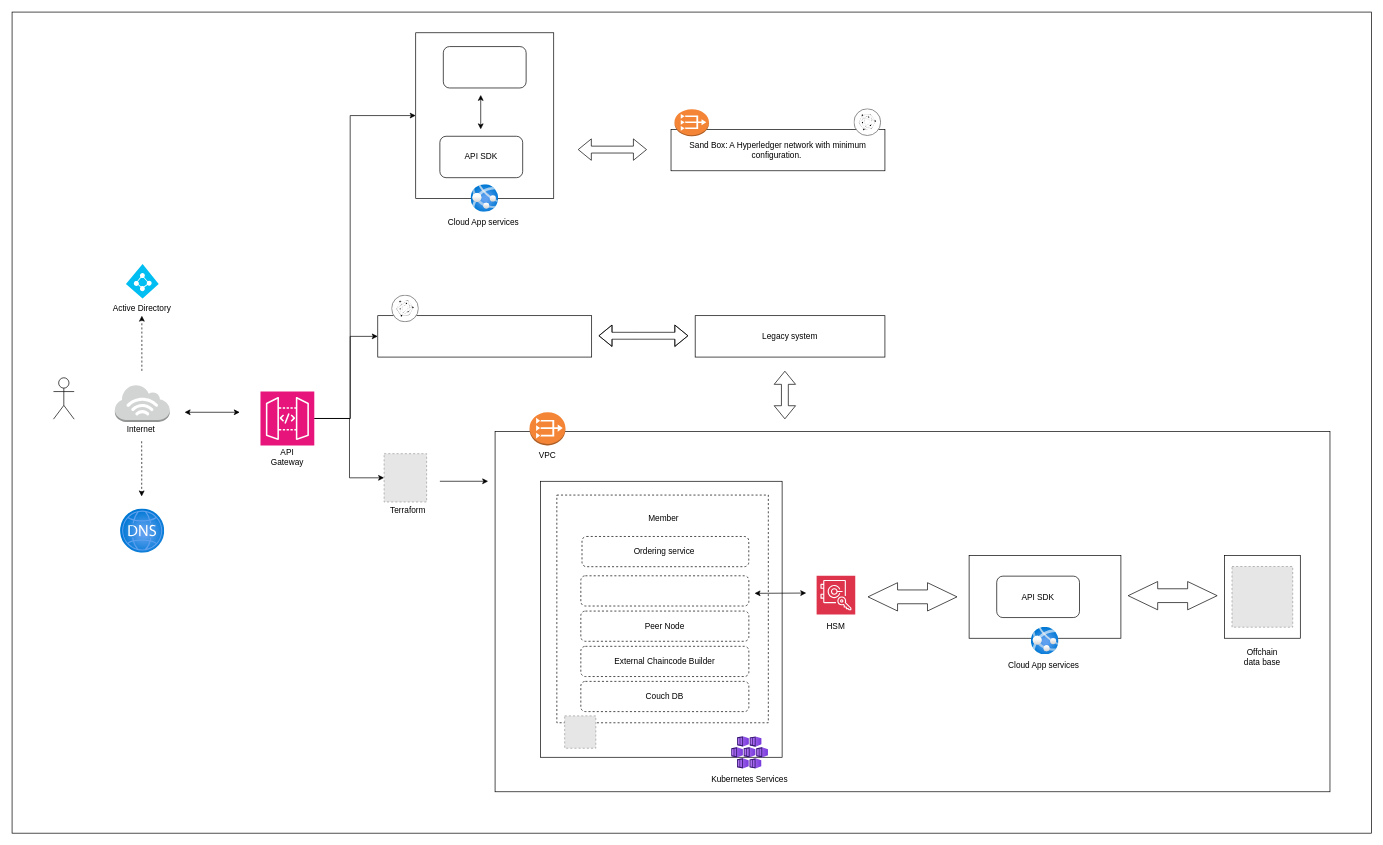
Some shapes in this 1383 by 845 pixel diagram are drawn without their labels. Grey dashed boxes stand in for pictures. Here are the shapes that lost their labels. From the top down, the centre of each, then its label:
point 484,67: Chaincode Deployment Script
point 484,336: Blockchain application running on BaaS
point 63,398: Actor
point 664,590: Fabric CA
